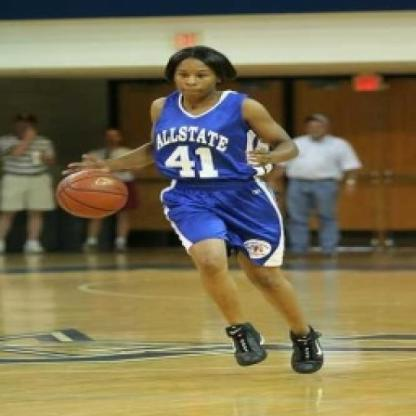basketball: (53, 172, 130, 218)
